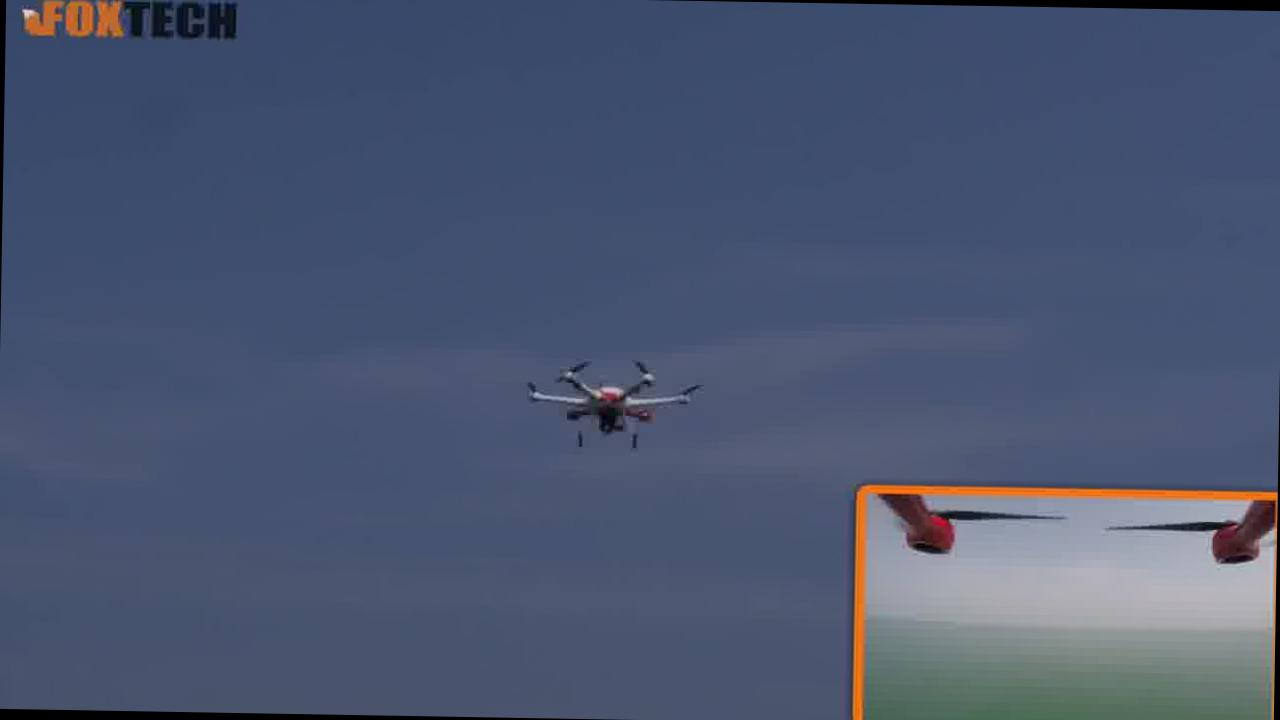drone: (504, 344, 722, 456)
